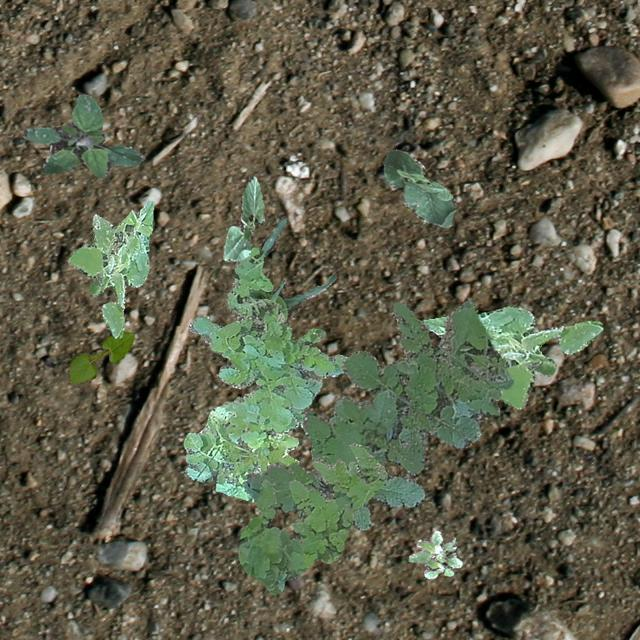crop: (250, 214, 334, 324), (382, 148, 456, 226), (222, 176, 264, 260), (66, 330, 132, 382)
weed: (243, 296, 512, 528), (182, 244, 346, 501), (236, 442, 386, 594), (422, 306, 602, 408), (68, 200, 152, 336), (22, 92, 142, 176), (408, 530, 462, 578)
